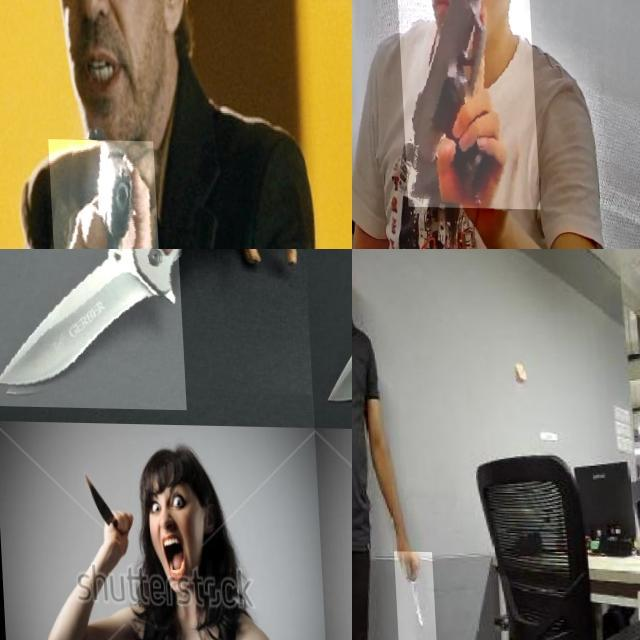-: (0, 249, 183, 409), (389, 550, 430, 640), (76, 468, 130, 536)
gun-knife-thesis - v11 Yolov5 augmented: (390, 0, 534, 207), (44, 138, 161, 249)
